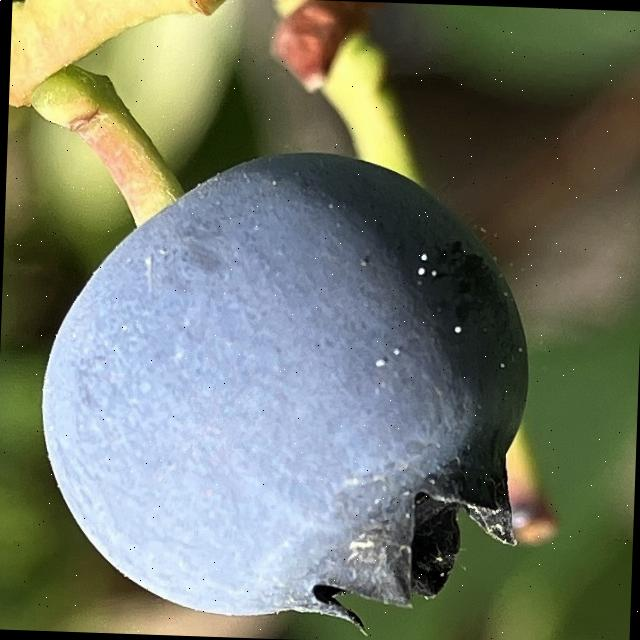Blueberries: (24, 142, 542, 640)
